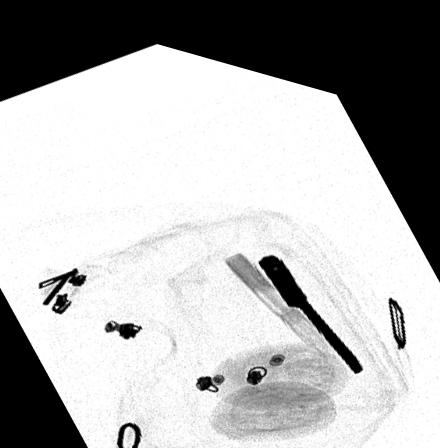Wrench: (252, 236, 364, 356)
